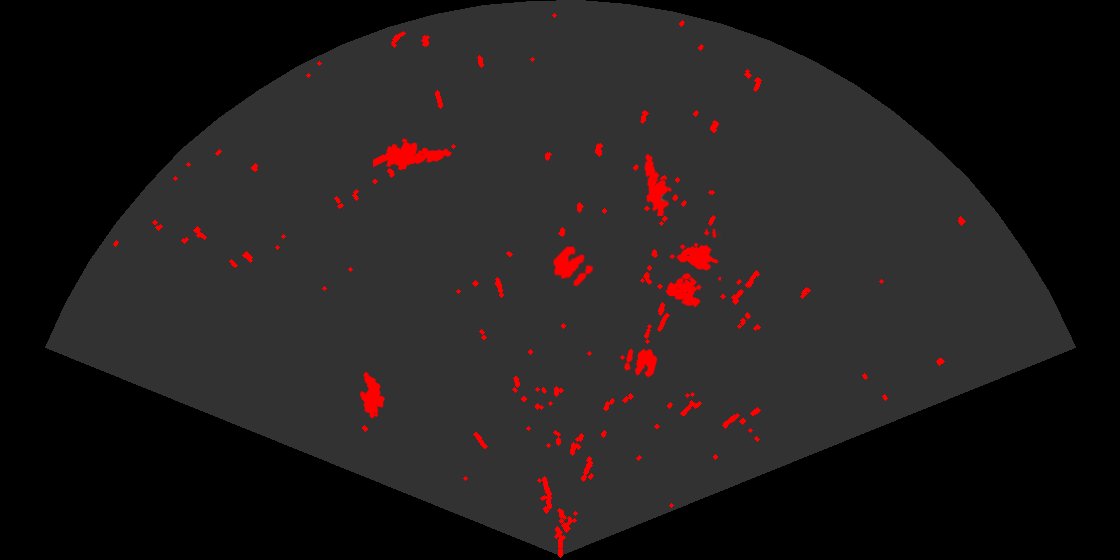AUV: (358, 370, 386, 420)
ball: (551, 245, 595, 288), (623, 347, 659, 379)
cage: (664, 229, 721, 309)
frogman: (373, 137, 453, 172), (643, 152, 674, 216)
